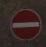No entry: (6, 6, 40, 42)
